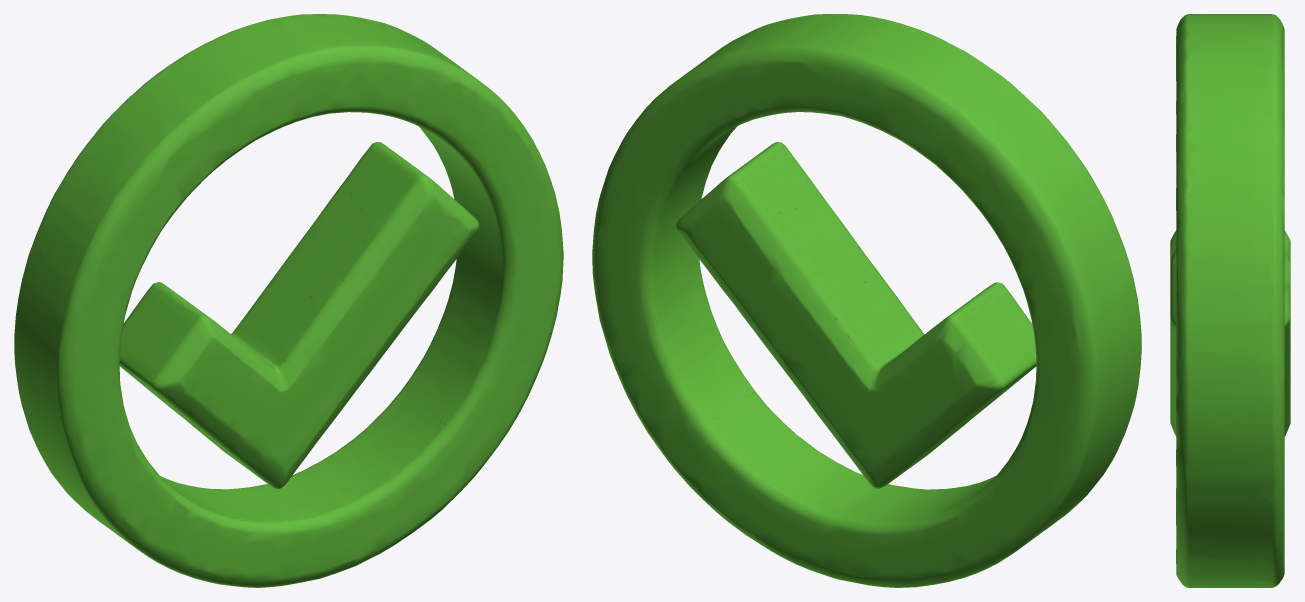
File: green_check_(done_icon).fbx
3 views of the same model, side by side, from view 1: azimuth 30°, elevation 25°; view 2: azimuth 150°, elevation 25°; view 3: azimuth 270°, elevation 25° (orthographic).
Parts seen in each view (by area): view 1: tripo_node_70ff1d53; view 2: tripo_node_70ff1d53; view 3: tripo_node_70ff1d53.
Part boxes in pixels (bbox=[...]): tripo_node_70ff1d53: bbox=[14, 14, 563, 587]; tripo_node_70ff1d53: bbox=[592, 14, 1141, 587]; tripo_node_70ff1d53: bbox=[1170, 14, 1290, 587].
Size of the model in its own units: 100 by 20.89 by 99.97.
1 material, 1 textured.
